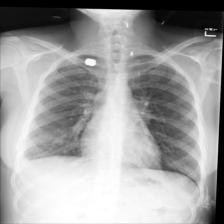normal: (21, 47, 206, 194)
